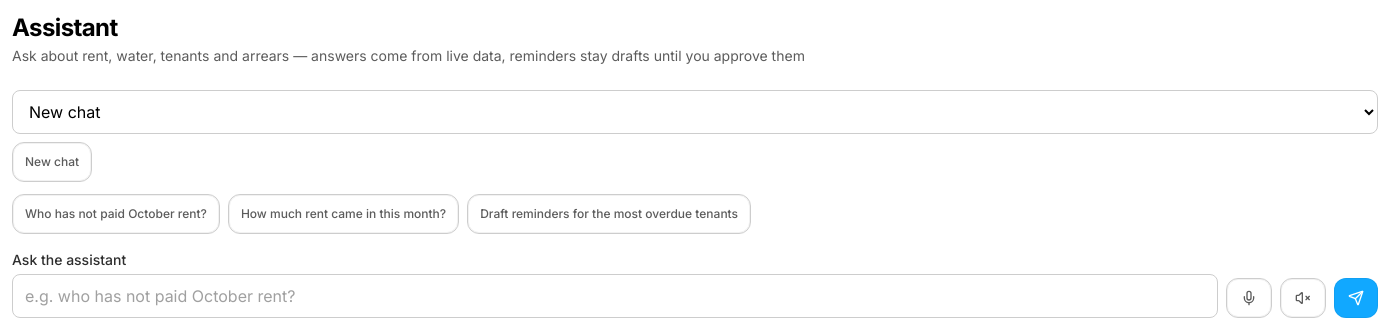
Test: Assistant mic (record and transcribe) › records on tap and transcribes into the input on second tap
expect the text "Ask about rent, water, tenants" is shown: met, box [12,47,805,64]
Click the button named "Dictate question". click: (1249, 298)
box: [1226,278,1272,318]
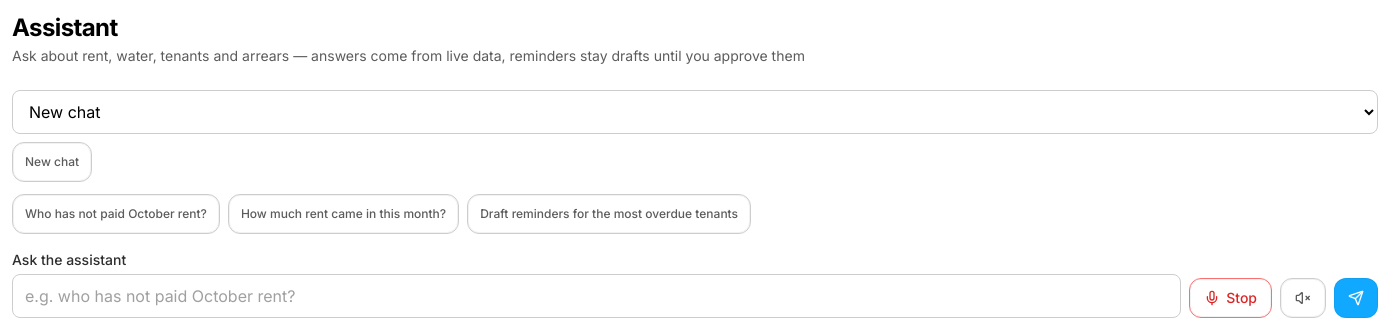
expect the button "Stop" is shown: met
Click the button with aria-label "Dictate question". click: (1231, 298)
box: [1189,278,1272,318]
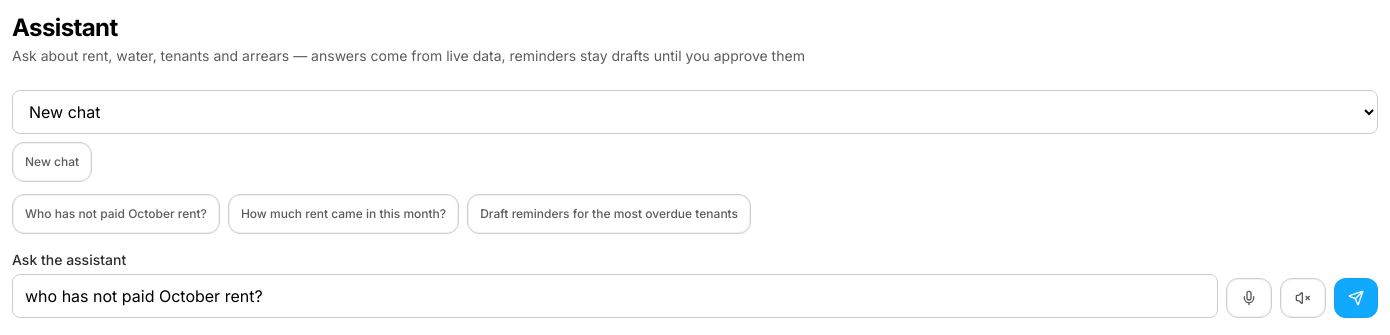
expect the field labelled "Ask the assistant" holds "who has not paid October rent?": met, box [12,274,1218,318]
expect the button "Stop" is gone: met
